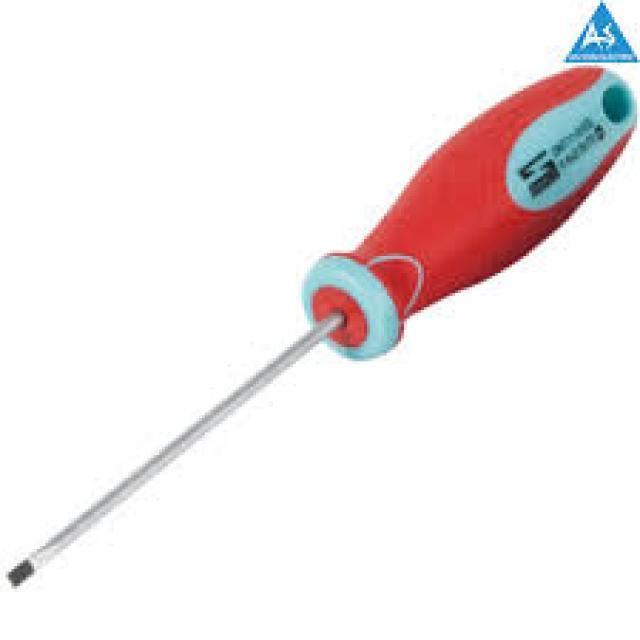screwdriver: (0, 64, 637, 590)
